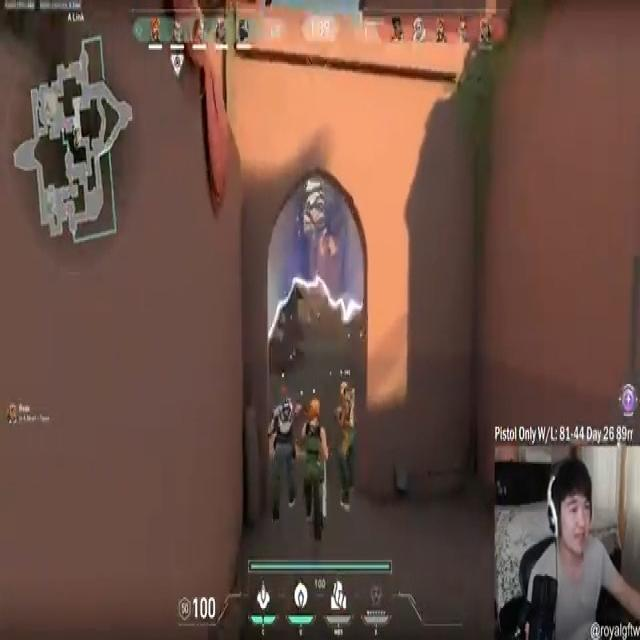ally: (301, 397, 328, 545), (268, 389, 296, 522), (336, 382, 361, 511)
